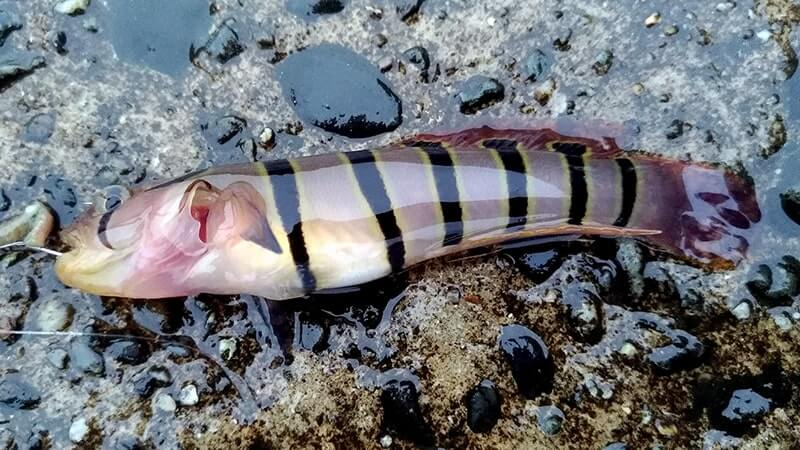gonzui: (21, 82, 796, 353)
